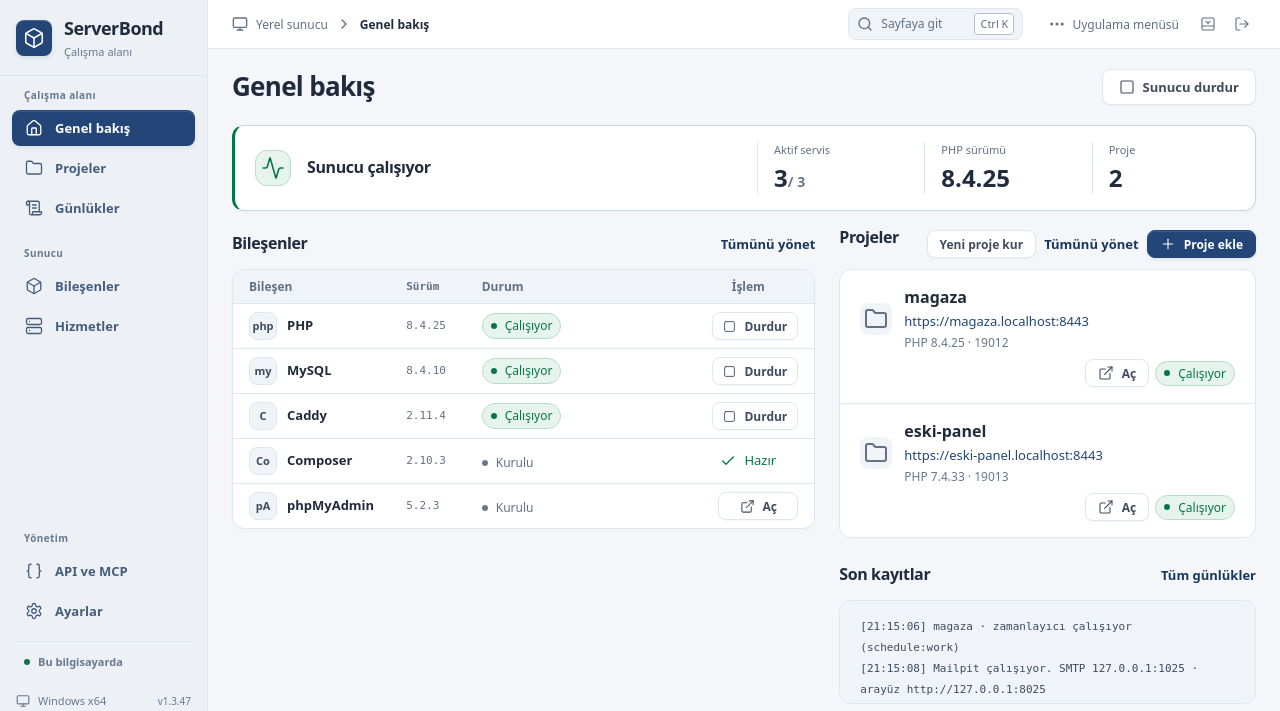
Scenario: paints the post-mutation snapshot without waiting for an older workspace poll
This screenshot has width=1280, height=711.
Click the button "Sunucu durdur": [1179, 87] box [1102,69,1256,105]
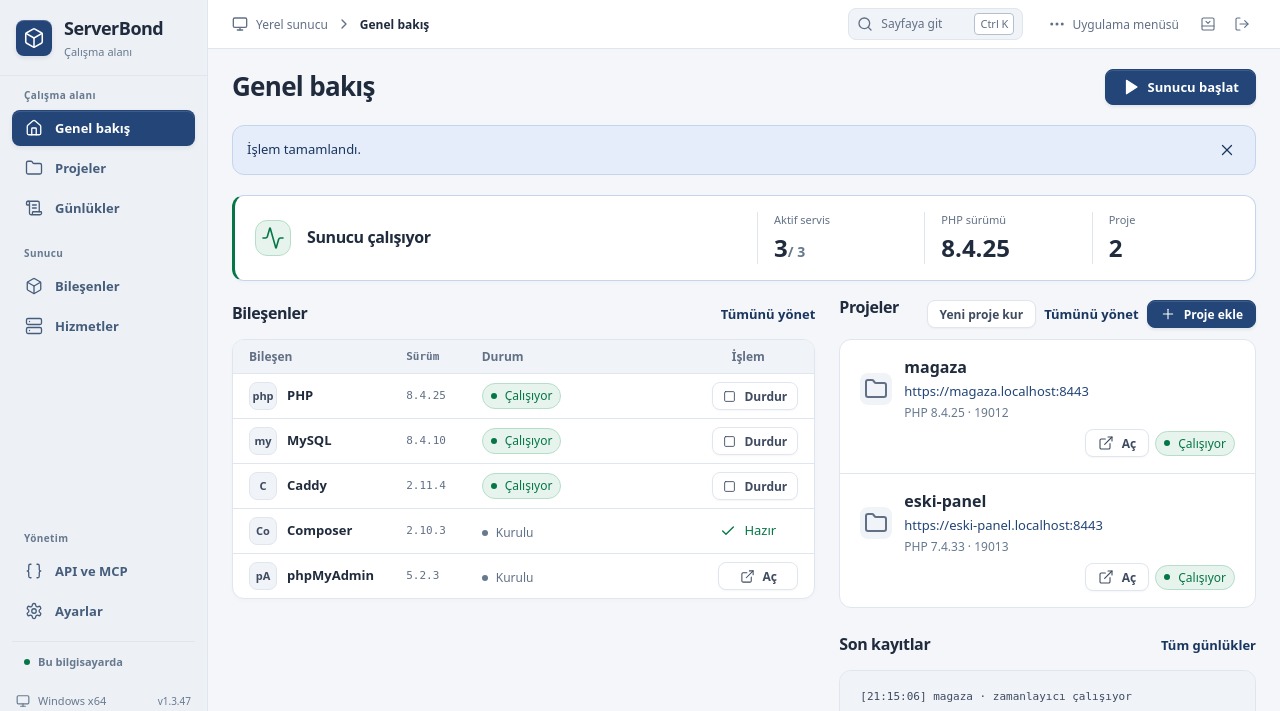
Result: the button "Sunucu başlat" is shown at [1105,69,1256,105]
